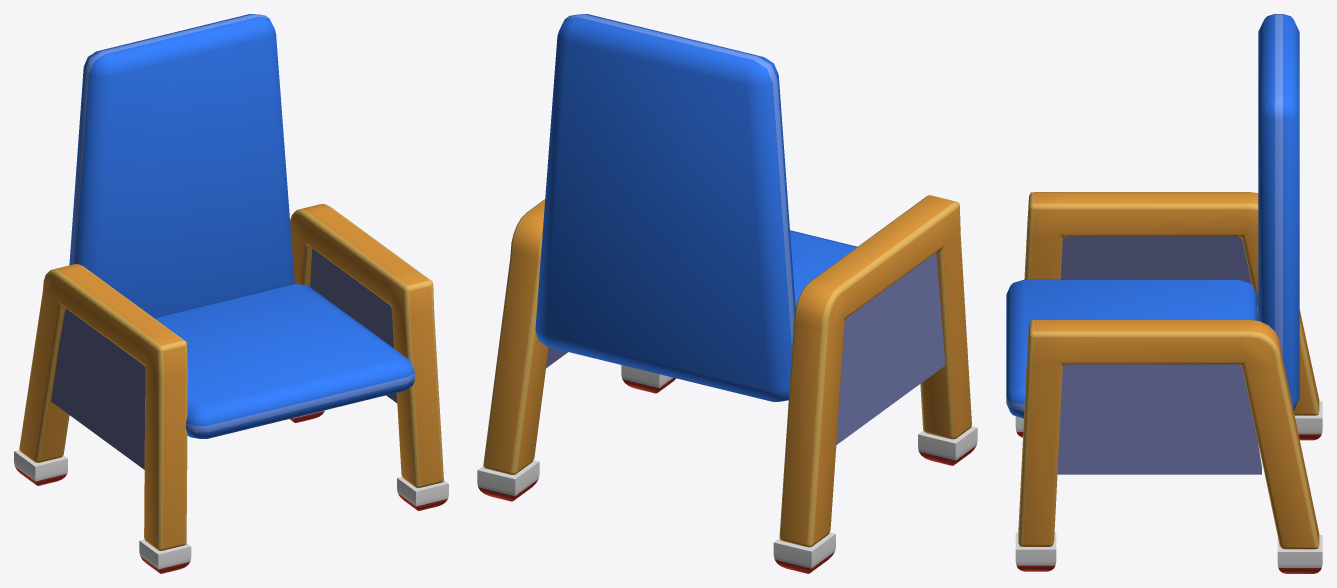
Rendered from Chair.fbx.
3 views of the same model, side by side, from view 1: azimuth 30°, elevation 25°; view 2: azimuth 150°, elevation 25°; view 3: azimuth 270°, elevation 25° (orthographic). The views are drawn at different scales.
Visible parts, largest first — view 1: Chair, Chair.004, Chair.001, Chair.003, Chair.008, Chair.007, Chair.005; view 2: Chair, Chair.004, Chair.003, Chair.001, Chair.008, Chair.006, Chair.007, Chair.005; view 3: Chair.003, Chair.004, Chair, Chair.001, Chair.006, Chair.005, Chair.008.
Part boxes in pixels (box(x1,y1,x2,y2)): Chair: box(69, 14, 294, 317); Chair.004: box(19, 264, 187, 550); Chair.001: box(154, 284, 414, 438); Chair.003: box(290, 204, 443, 488); Chair.008: box(14, 450, 67, 485); Chair.007: box(139, 539, 191, 573); Chair.005: box(397, 476, 448, 510); Chair: box(535, 14, 795, 401); Chair.004: box(779, 195, 971, 547); Chair.003: box(483, 199, 567, 474); Chair.001: box(790, 230, 857, 307); Chair.008: box(773, 532, 835, 573); Chair.006: box(477, 460, 539, 501); Chair.007: box(918, 426, 977, 465); Chair.005: box(621, 365, 675, 393); Chair.003: box(1018, 320, 1319, 549); Chair.004: box(1024, 192, 1319, 415); Chair: box(1258, 14, 1299, 410); Chair.001: box(1006, 279, 1256, 418); Chair.006: box(1277, 535, 1322, 573); Chair.005: box(1015, 532, 1056, 571); Chair.008: box(1295, 401, 1322, 440).
Size of the model in its own units: 157 by 219 by 139.
